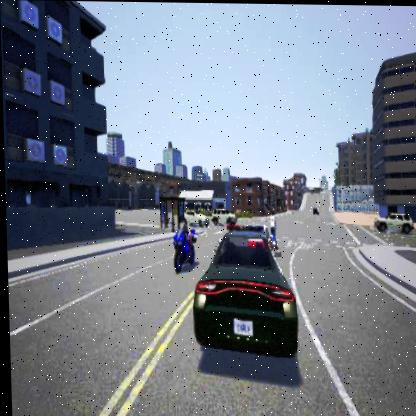bike: (267, 211, 277, 247)
motobike: (170, 225, 195, 271)
vehicle: (189, 224, 296, 356), (372, 210, 412, 233), (208, 205, 235, 225), (183, 209, 207, 226)
